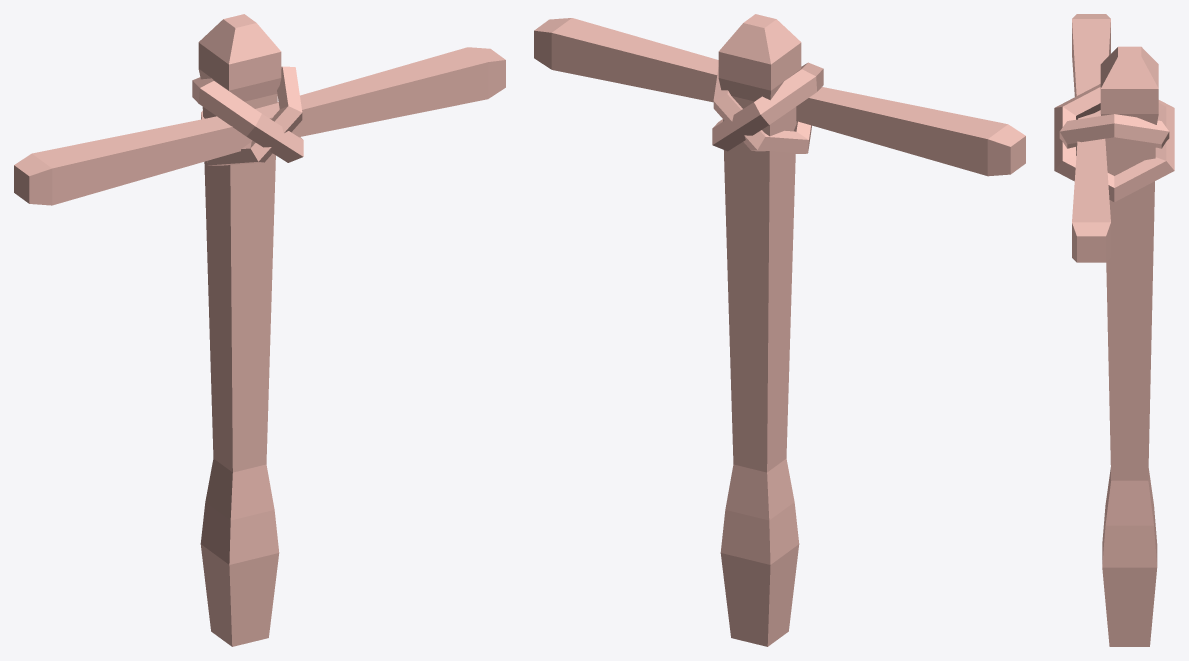
Rendered from Mega_Asset_s_Pack_Cube_302.FBX.
3 renders of one model, left to right at view 1: azimuth 30°, elevation 25°; view 2: azimuth 150°, elevation 25°; view 3: azimuth 270°, elevation 25°, orthographic. The views are drawn at different scales.
Parts seen in each view (by area): view 1: Mega_Asset_s_Pack_Cube_302; view 2: Mega_Asset_s_Pack_Cube_302; view 3: Mega_Asset_s_Pack_Cube_302.
Part boxes in pixels (x1=…): Mega_Asset_s_Pack_Cube_302: x1=14, y1=14, x2=505, y2=646; Mega_Asset_s_Pack_Cube_302: x1=534, y1=14, x2=1025, y2=646; Mega_Asset_s_Pack_Cube_302: x1=1054, y1=14, x2=1174, y2=646.
Size of what is drawn, in the model's own units: 178 by 40.79 by 219.
